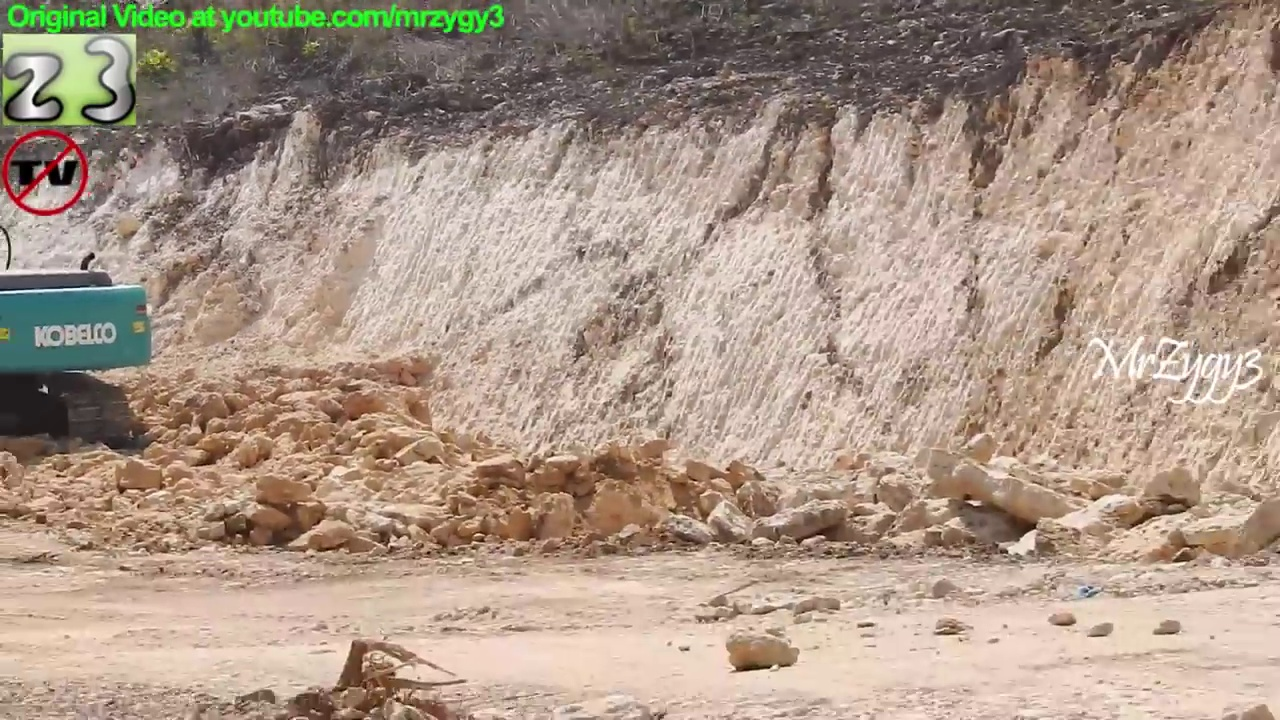excavator: (1, 207, 157, 452)
